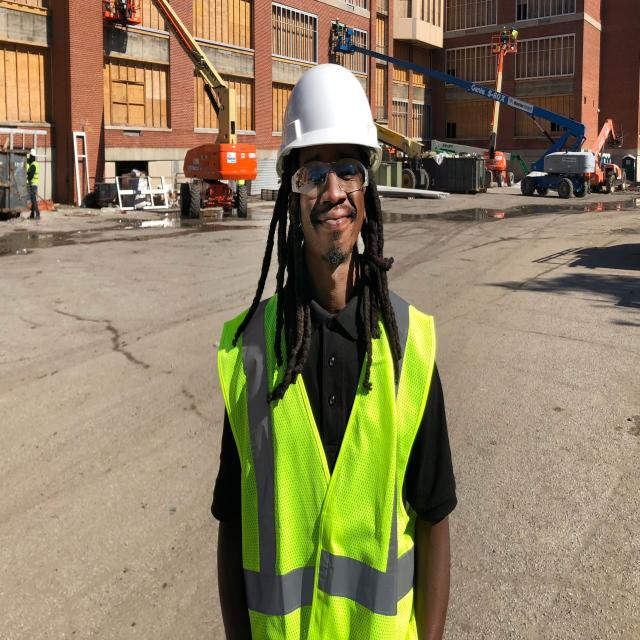Reflective-Jacket: (214, 284, 438, 640), (25, 158, 40, 186)
Safety-Helmet: (272, 54, 386, 160), (28, 145, 38, 157)
